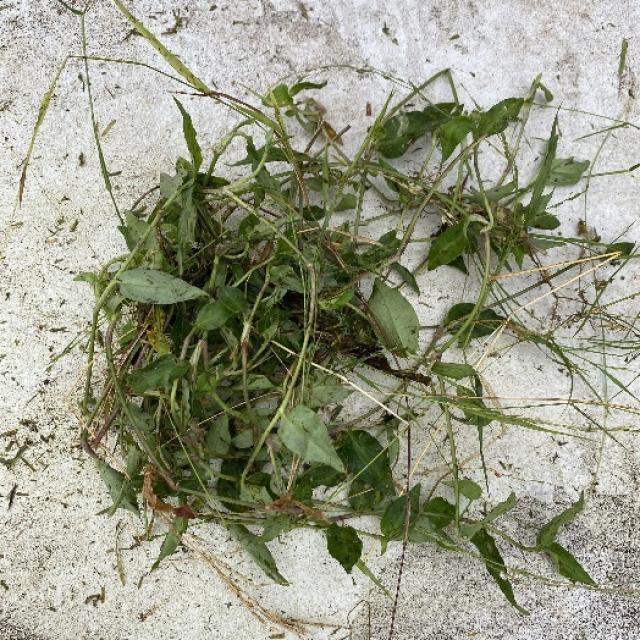organik: (48, 39, 624, 606)
